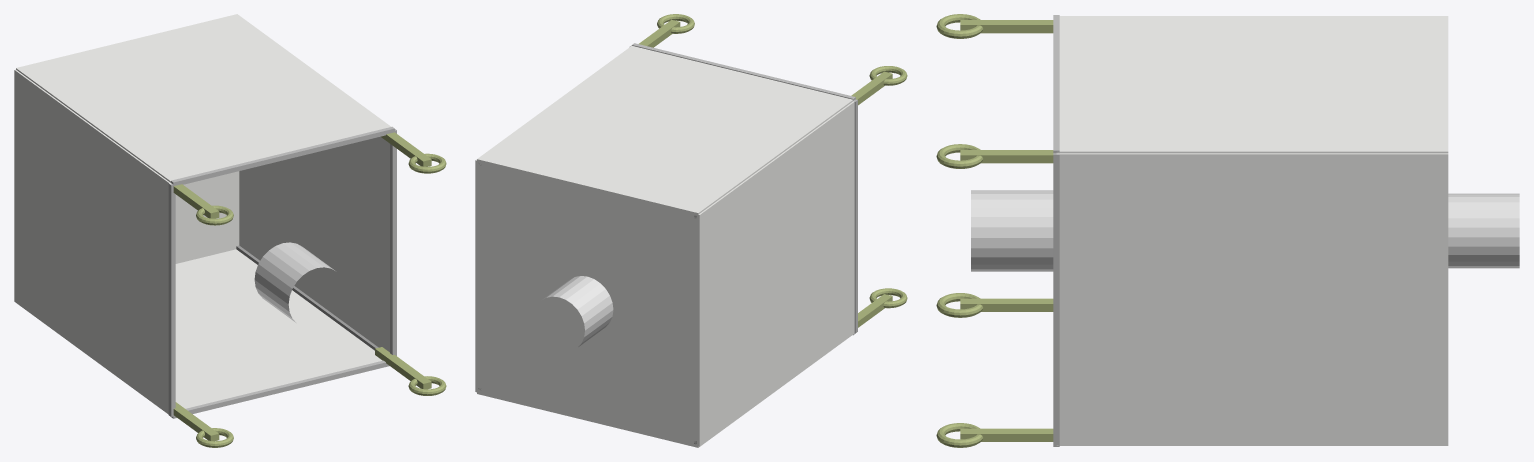
The model's file is modelo-valvula-carga-descarga.glb.
3 renders of one model, left to right at view 1: azimuth 30°, elevation 25°; view 2: azimuth 150°, elevation 25°; view 3: azimuth 270°, elevation 25°, orthographic. The views are drawn at different scales.
Parts seen in each view (by area): view 1: left_shell, back_shell, right_shell, front_shell, bottom, accesorio_valvula_valvula, top_left_rim, top_back_rim, top_front_rim, top_right_rim, loop_strap_1, side_seam_0.438 (+7 smaller); view 2: bottom, left_shell, back_shell, accesorio_valvula_valvula, top_left_rim, right_shell, top_back_rim, front_shell, loop_strap_2, loop_strap_0, loop_strap_3, loop_top_0 (+2 smaller); view 3: right_shell, back_shell, accesorio_valvula_valvula, top_right_rim, loop_strap_1, loop_strap_0, loop_strap_2, loop_strap_3, top_back_rim, loop_top_0, loop_top_1, loop_top_3 (+1 smaller).
Part boxes in pixels (x1,y1,x2,y2): left_shell: [14, 69, 171, 413]; back_shell: [16, 14, 390, 182]; right_shell: [239, 136, 389, 352]; front_shell: [25, 249, 382, 414]; bottom: [175, 171, 239, 263]; accesorio_valvula_valvula: [254, 242, 334, 322]; top_left_rim: [168, 183, 175, 416]; top_back_rim: [171, 126, 394, 185]; top_front_rim: [171, 360, 389, 418]; top_right_rim: [390, 129, 396, 355]; loop_strap_1: [375, 347, 431, 389]; side_seam_0.438: [236, 245, 378, 350]; bottom: [477, 162, 698, 445]; left_shell: [697, 100, 854, 446]; back_shell: [477, 46, 853, 215]; accesorio_valvula_valvula: [542, 276, 613, 346]; top_left_rim: [854, 99, 857, 333]; right_shell: [475, 159, 478, 392]; top_back_rim: [632, 43, 855, 100]; front_shell: [477, 351, 830, 447]; loop_strap_2: [851, 71, 892, 105]; loop_strap_0: [858, 294, 892, 327]; loop_strap_3: [639, 19, 680, 47]; loop_top_0: [869, 288, 907, 308]; right_shell: [1056, 153, 1448, 444]; back_shell: [1056, 16, 1448, 153]; accesorio_valvula_valvula: [971, 190, 1519, 271]; top_right_rim: [1053, 153, 1059, 445]; loop_strap_1: [960, 428, 1053, 441]; loop_strap_0: [960, 298, 1053, 311]; loop_strap_2: [960, 20, 1053, 33]; loop_strap_3: [960, 150, 1053, 163]; top_back_rim: [1053, 15, 1059, 153]; loop_top_0: [936, 293, 983, 317]; loop_top_1: [936, 423, 983, 447]; loop_top_3: [936, 144, 983, 168].
Size of the model in its own units: 0.998 by 0.918 by 1.64.
